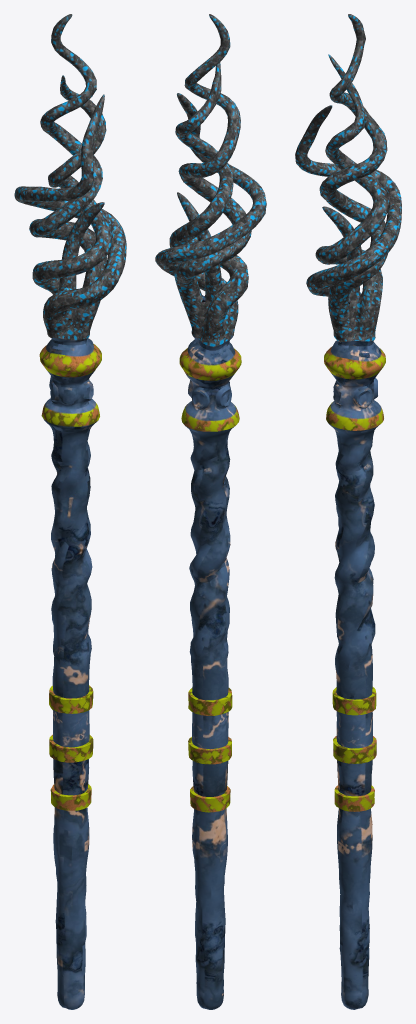
The model's file is Magic Kit.fbx.
The picture shows the model from 3 angles, left to right: view 1: azimuth 30°, elevation 25°; view 2: azimuth 210°, elevation 25°; view 3: azimuth 270°, elevation 25°; orthographic projection.
Visible parts, largest first — view 1: Magic Kit; view 2: Magic Kit; view 3: Magic Kit.
Boxes of the visible parts, bbox=[...] form: Magic Kit: bbox=[14, 14, 126, 1009]; Magic Kit: bbox=[155, 14, 266, 1009]; Magic Kit: bbox=[295, 14, 401, 1009].
Size of the model in its own units: 515 by 5167 by 504.
1 material, 1 textured.
